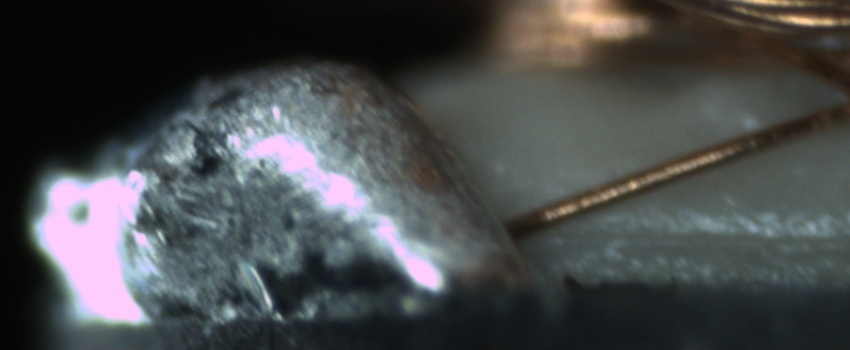DL: (552, 205, 850, 269)
